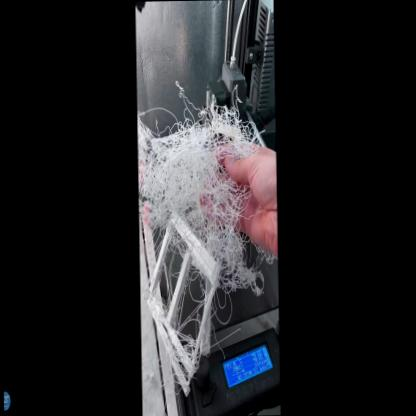fail: (136, 93, 259, 399)
